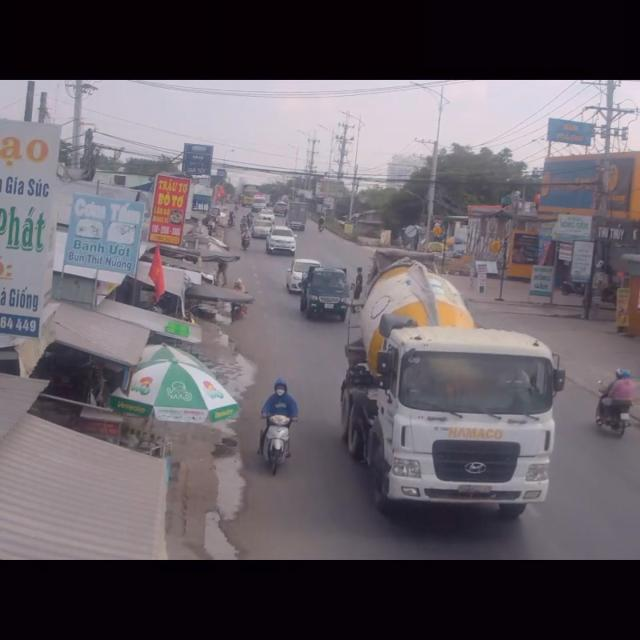car: (289, 259, 311, 293)
motorbike: (257, 378, 299, 478), (594, 368, 630, 439)
truck: (338, 280, 566, 530), (300, 266, 348, 324)
